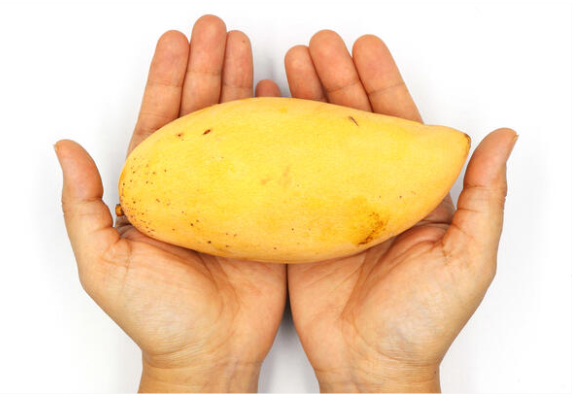mango: (117, 97, 473, 263)
